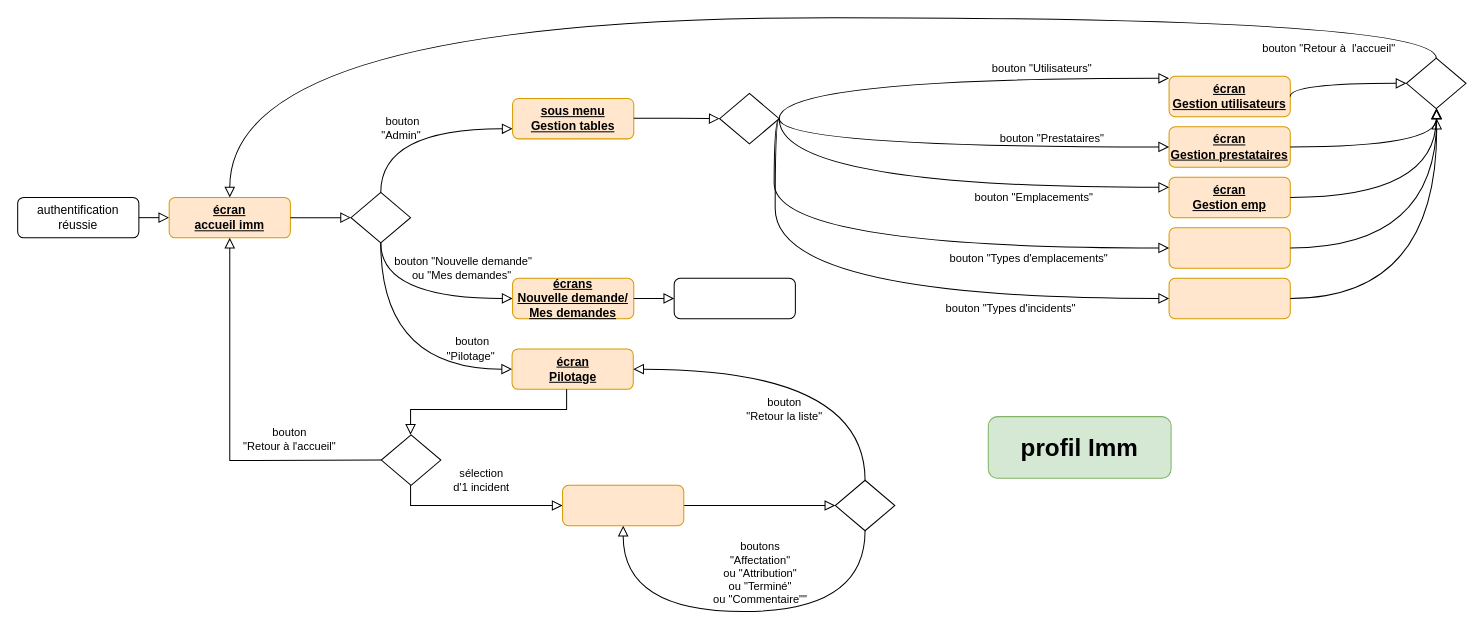
Image size: 1484x629. Some labels were removed from this diagram. Here are the shapes that lost their labels. From the top down, the box of each, then its label:
(1168, 227, 1290, 268): écran Gestion temp
(673, 277, 795, 319): voir "usager"
(1168, 277, 1290, 319): écran Gestion tinc
(562, 484, 684, 526): écran Détail incident
